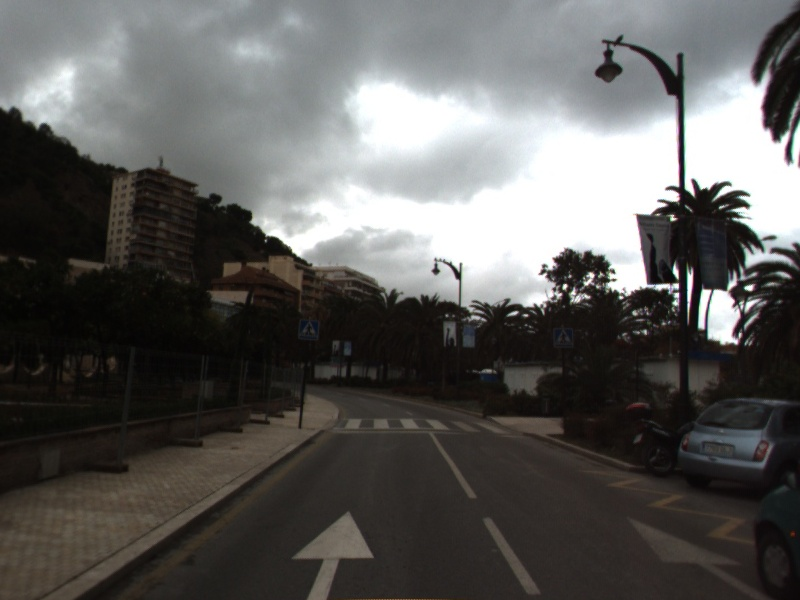STRAIGHT: (625, 515, 771, 600), (289, 509, 376, 600)
